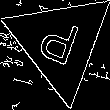P_S: (35, 12, 85, 73)
